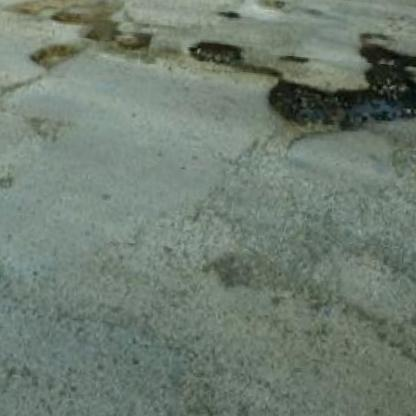pothole: (263, 33, 416, 151), (186, 37, 247, 69), (27, 38, 77, 73), (14, 0, 88, 21), (88, 9, 120, 44), (119, 26, 157, 55), (278, 52, 313, 64), (217, 6, 242, 21)
